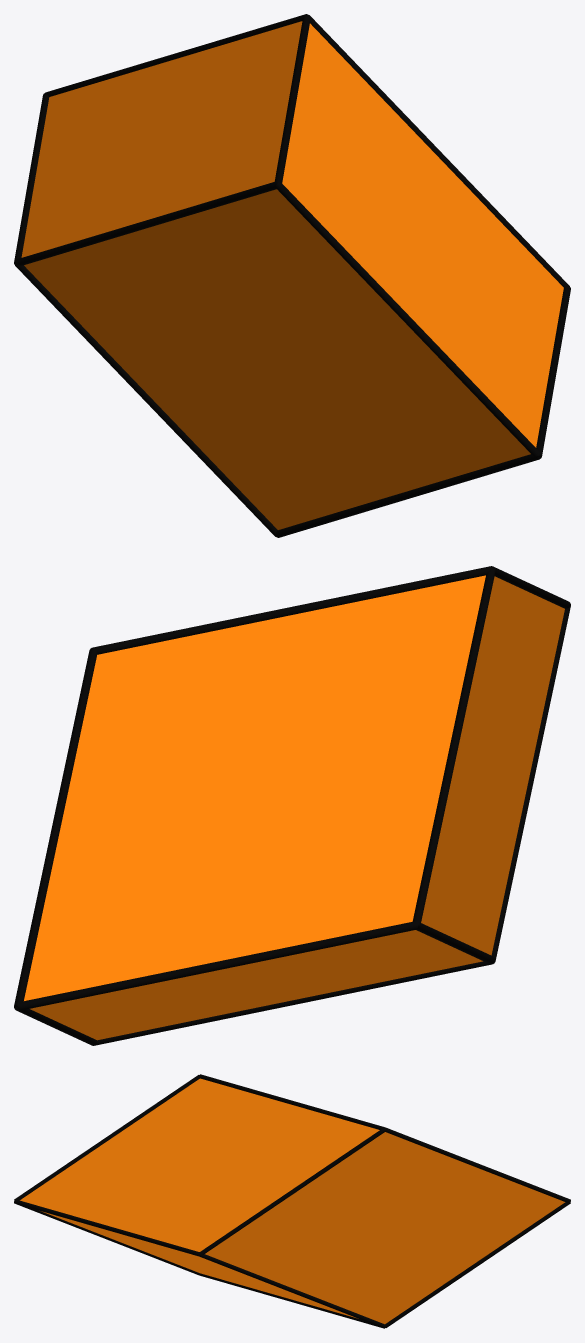
The model's file is quiz_115.dae.
3 views of the same model, one above another, from view 1: azimuth 30°, elevation 25°; view 2: azimuth 150°, elevation 25°; view 3: azimuth 270°, elevation 25° (orthographic). The views are drawn at different scales.
Parts seen in each view (by area): view 1: visgeom_0, geometry_edges0_0_quiz_115.off; view 2: visgeom_0, geometry_edges0_0_quiz_115.off; view 3: visgeom_0, geometry_edges0_0_quiz_115.off.
Boxes of the visible parts, x1,y1,x2,y2 form: visgeom_0: (21, 21, 563, 529); geometry_edges0_0_quiz_115.off: (14, 14, 570, 537); visgeom_0: (24, 575, 564, 1040); geometry_edges0_0_quiz_115.off: (14, 566, 570, 1045); visgeom_0: (20, 1078, 565, 1324); geometry_edges0_0_quiz_115.off: (14, 1074, 570, 1328).
Size of the model in its own units: 1.17 by 2.56 by 1.02.
